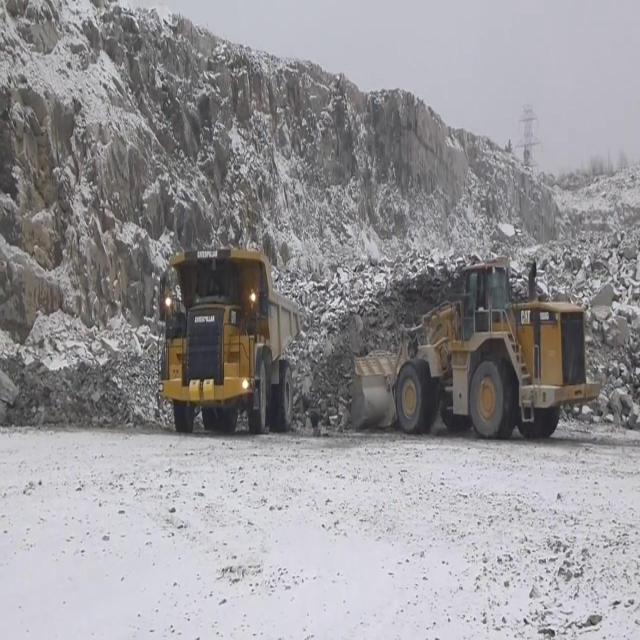buldozerpayloadergrader: (351, 261, 603, 441)
dump_truck: (153, 250, 303, 433)
